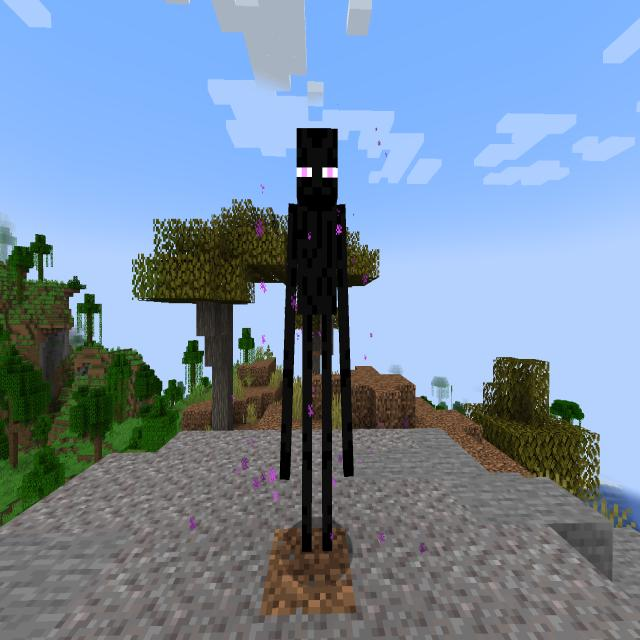Enderman: (270, 105, 364, 577)
